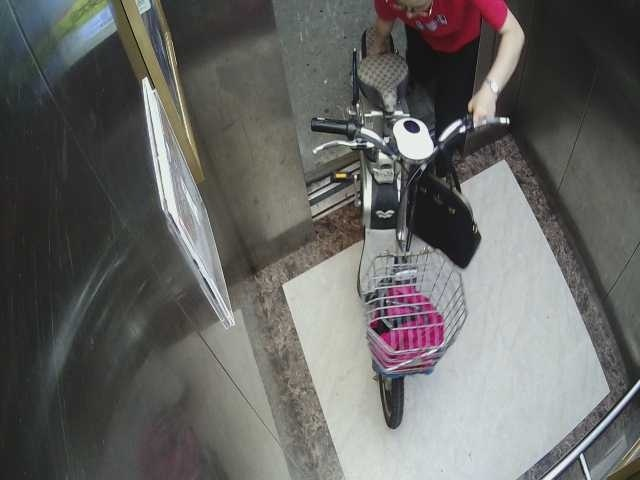emotor: (307, 24, 498, 423)
